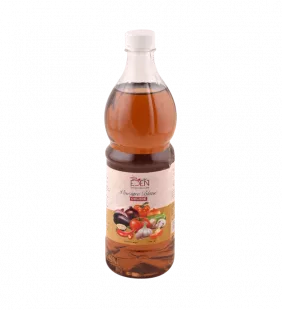EDEN: (93, 19, 188, 284)
